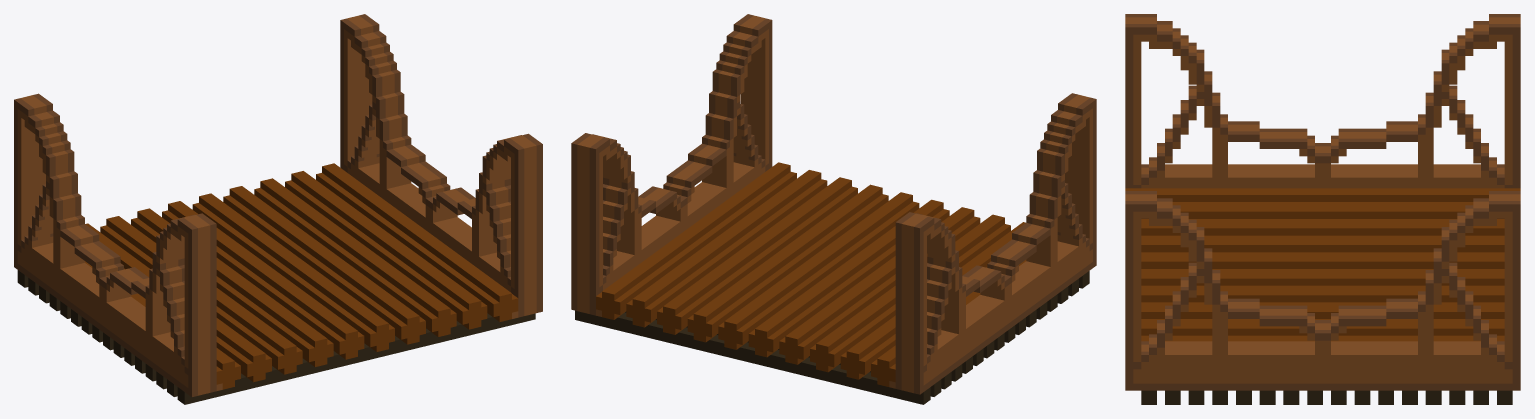
File: wood bridge.obj
3 views of the same model, side by side, from view 1: azimuth 30°, elevation 25°; view 2: azimuth 150°, elevation 25°; view 3: azimuth 270°, elevation 25° (orthographic). The views are drawn at different scales.
Size of the model in its own units: 5.7 by 2.8 by 5.
1 material, 1 textured.
